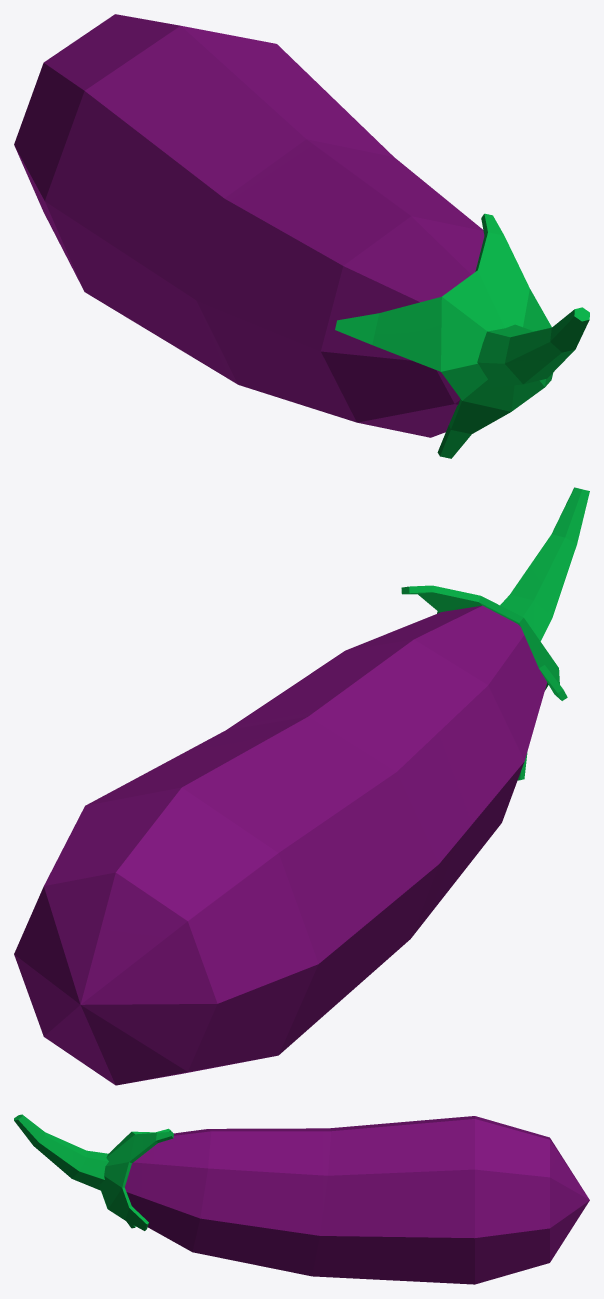
File: eggplant_001.glb
The picture shows the model from 3 angles, top to bottom: view 1: azimuth 30°, elevation 25°; view 2: azimuth 150°, elevation 25°; view 3: azimuth 270°, elevation 25°; orthographic projection. The views are drawn at different scales.
Visible parts, largest first — view 1: eggplant_001; view 2: eggplant_001; view 3: eggplant_001.
Boxes of the visible parts, x1,y1,x2,y2 form: eggplant_001: [14, 14, 589, 458]; eggplant_001: [14, 487, 589, 1085]; eggplant_001: [14, 1114, 589, 1284].
Bounding box in the file's own units: 0.0853 × 0.0874 × 0.2738.
1 material, 1 textured.
